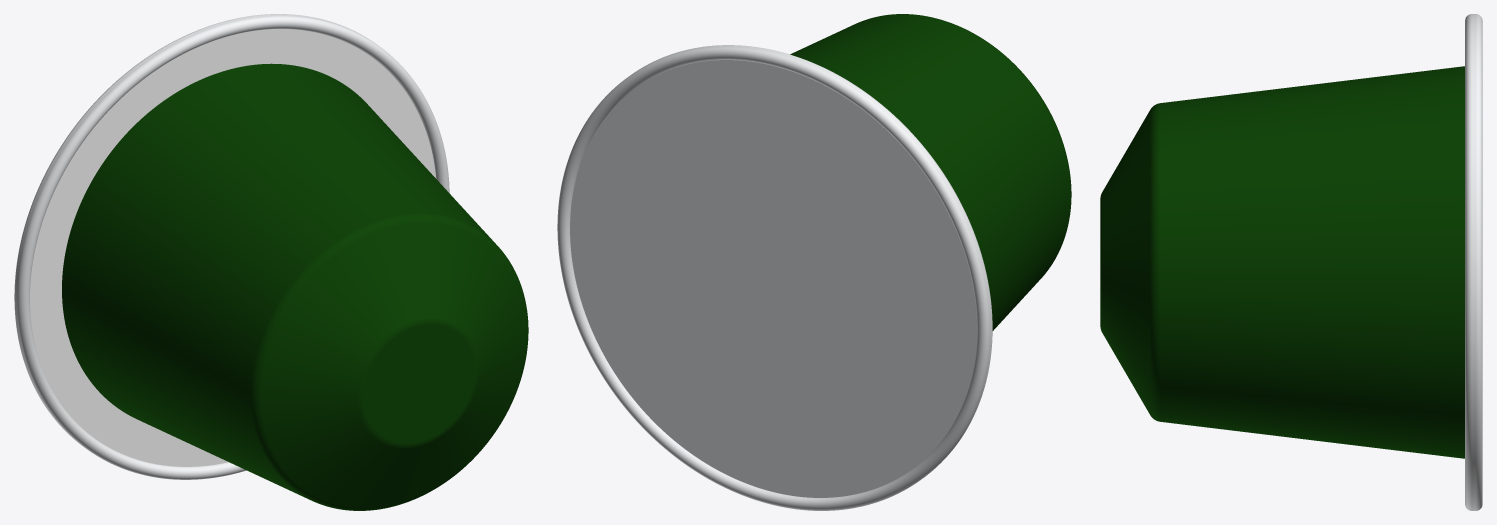
File: Dark Green Capsule.glb
3 renders of one model, left to right at view 1: azimuth 30°, elevation 25°; view 2: azimuth 150°, elevation 25°; view 3: azimuth 270°, elevation 25°, orthographic.
Visible parts, largest first — view 1: Капсула; view 2: Капсула; view 3: Капсула.
Part boxes in pixels (x1,y1,x2,y2): Капсула: [14, 14, 528, 510]; Капсула: [557, 14, 1071, 510]; Капсула: [1100, 14, 1482, 510].
Size of the model in its own units: 0.037 by 0.037 by 0.0284.
